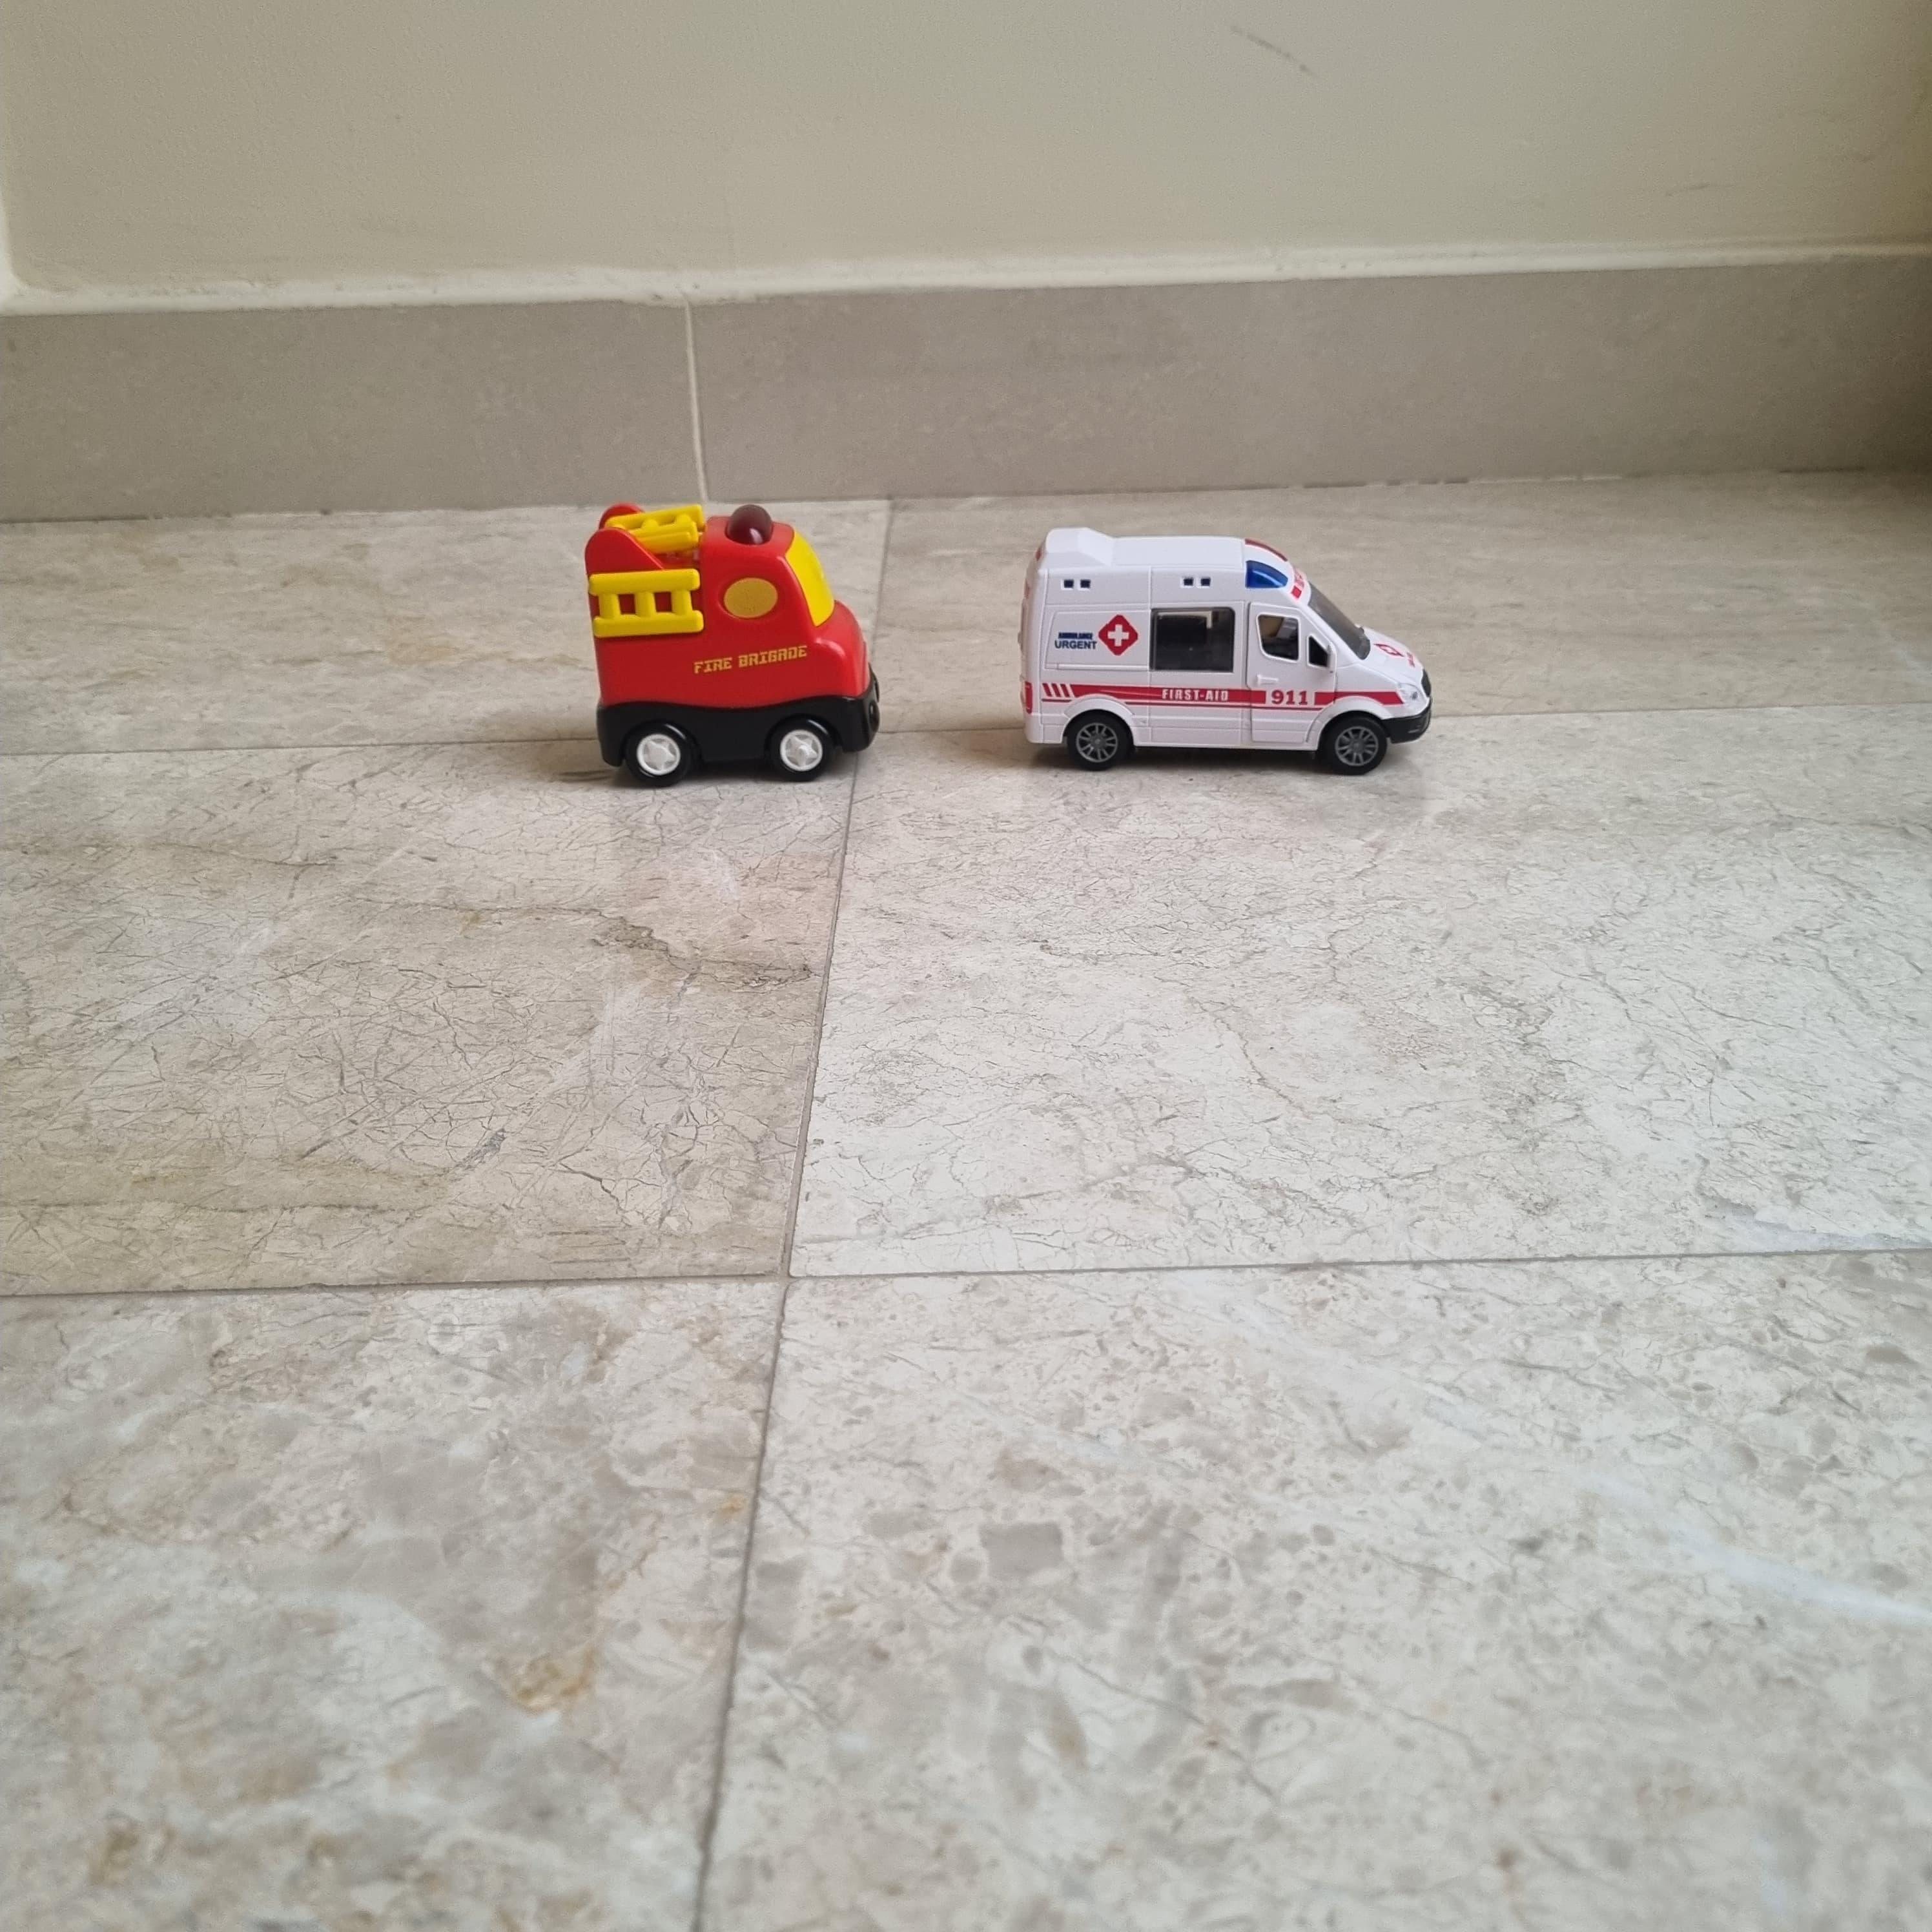ambulance_off: (1017, 529, 1431, 775)
firetruck_off: (586, 502, 879, 787)
